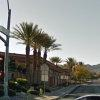Tree: (19, 16, 60, 58)
